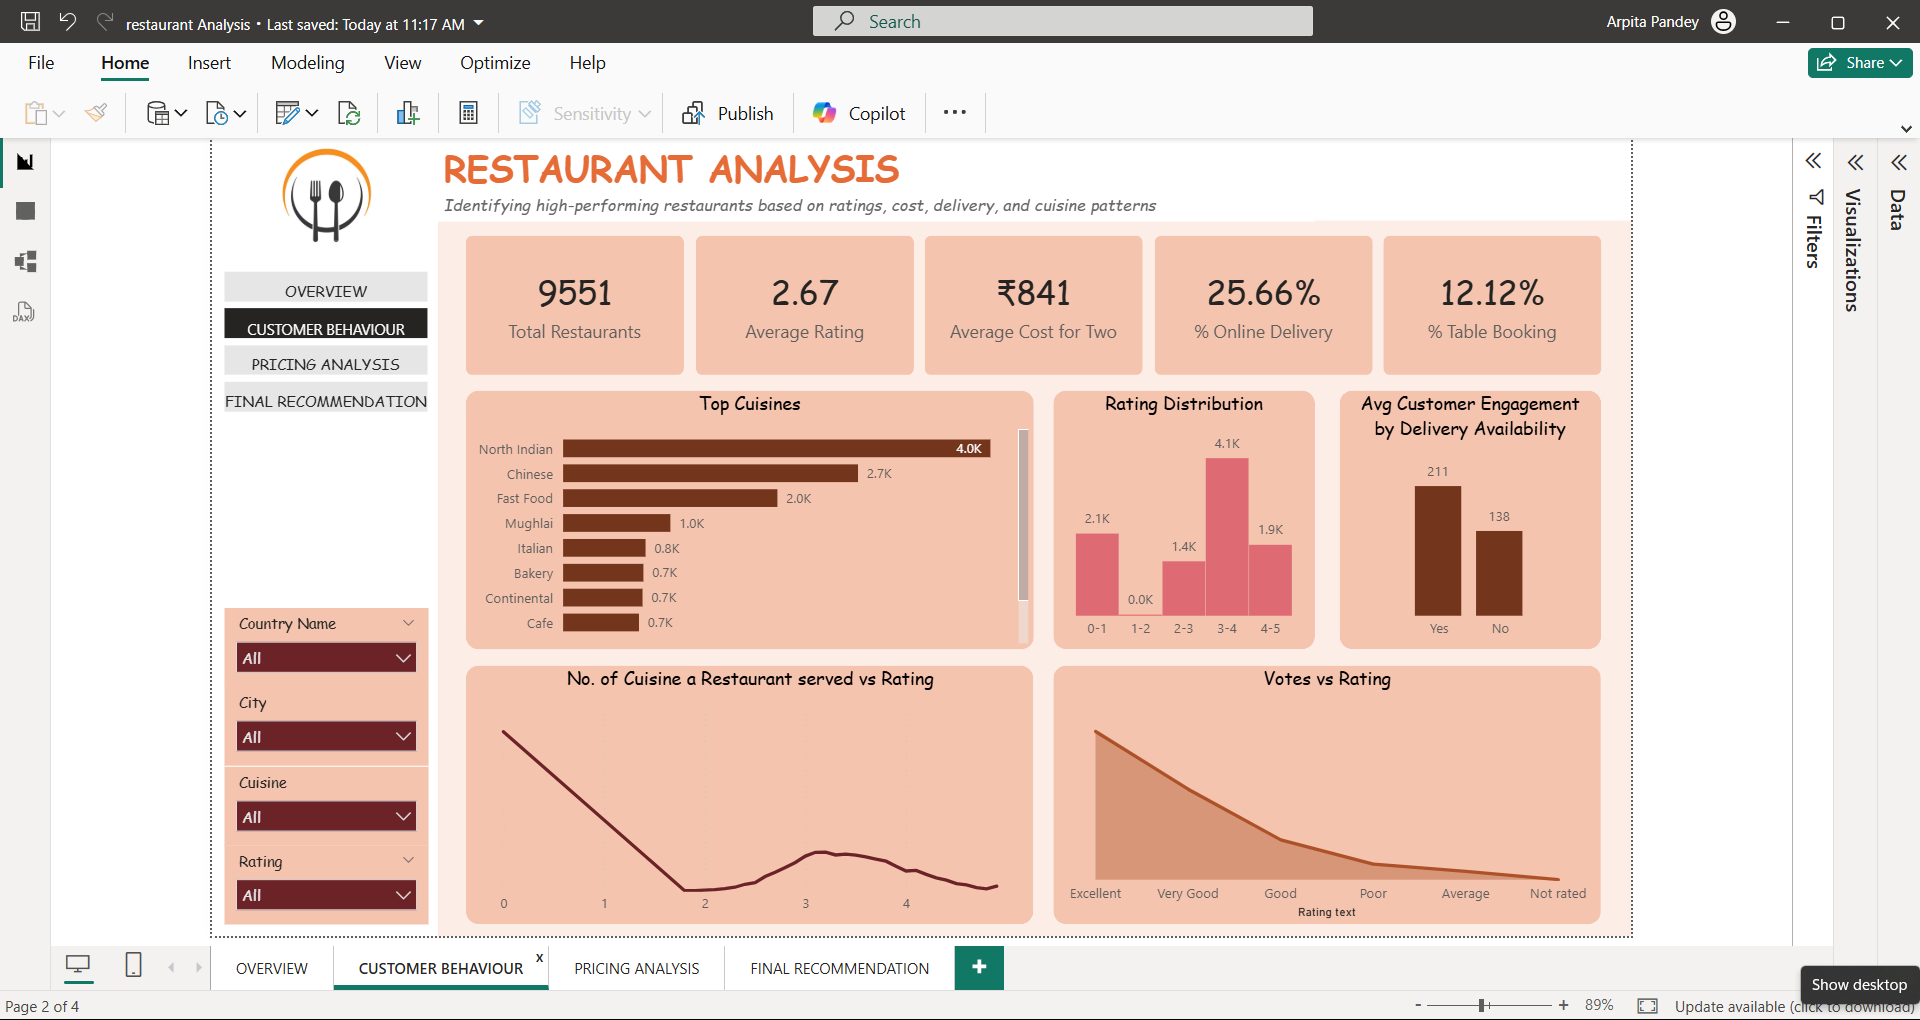

This screenshot's page, from the dashboard's own definition file:
{"tool":"powerbi","page":{"name":"CUSTOMER BEHAVIOUR","canvas":[1280,720],"ordinal":1},"visuals":[{"type":"shape","box":[0,0,204.2,720.2],"z":0},{"type":"shape","box":[0,0,1280.3,74.6],"z":1000},{"type":"image","box":[37,0,131,104],"z":2000},{"type":"textbox","box":[204,0,554,66],"z":3000},{"type":"textbox","box":[204,45,790,30],"z":4000},{"type":"shape","box":[228.7,227.4,512.4,233.6],"z":5000},{"type":"group","id":"g1","title":"Group 1","box":[228.7,87.9,196.9,126],"z":6000},{"type":"shape","box":[228.7,87.9,196.9,126],"z":7000,"group":"g1"},{"type":"group","id":"g2","title":"Group 1","box":[435.6,87.9,196.9,126],"z":7000},{"type":"shape","box":[435.6,87.9,196.9,126],"z":7000,"group":"g2"},{"type":"shape","box":[642.6,87.9,196.9,126],"z":7000,"group":"g3"},{"type":"shape","box":[849.6,87.9,196.9,126],"z":7000,"group":"g4"},{"type":"shape","box":[1056.5,87.9,196.9,126],"z":7000,"group":"g5"},{"type":"group","id":"g3","title":"Group 1","box":[642.6,87.9,196.9,126],"z":8000},{"type":"group","id":"g4","title":"Group 1","box":[849.6,87.9,196.9,126],"z":9000},{"type":"card","fields":{"Values":["restaurant_db.Total Restaurants"]},"box":[228.7,98.4,196.9,105.2],"z":9001,"group":"g1"},{"type":"card","fields":{"Values":["restaurant_db.Average Rating"]},"box":[435.6,98.4,196.9,105.2],"z":9001,"group":"g2"},{"type":"card","fields":{"Values":["restaurant_db.Average Cost for Two People"]},"box":[642.6,98.4,196.9,105.2],"z":9001,"group":"g3"},{"type":"card","fields":{"Values":["restaurant_db.% Online Delivery"]},"box":[849.6,98.4,196.9,105.2],"z":9001,"group":"g4"},{"type":"card","fields":{"Values":["restaurant_db.% Table Booking"]},"box":[1056.5,98.4,196.9,105.2],"z":9001,"group":"g5"},{"type":"group","id":"g5","title":"Group 1","box":[1056.5,87.9,196.9,126],"z":10000},{"type":"shape","box":[758.8,227.8,236,233.3],"z":11000},{"type":"clusteredBarChart","title":"Top Cuisines","fields":{"Category":["Cuisine_tbl.Cuisine"],"Y":["Cuisine_tbl.Restaurants per Cuisine"]},"box":[229.2,227.8,511.8,233.3],"z":12000},{"type":"clusteredColumnChart","title":"Rating Distribution","fields":{"Category":["restaurant_db.Rating Bucket"],"Y":["restaurant_db.Total Restaurants"]},"box":[758.8,227.8,236,233.3],"z":13000},{"type":"shape","box":[229.2,476.2,511.8,233.3],"z":14000},{"type":"lineChart","title":"No. of Cuisine a Restaurant served vs Rating","fields":{"Category":["restaurant_db.Aggregate rating"],"Y":["CountNonNull(restaurant_db.Cusinie Count per Restaurant)"]},"box":[248.4,476.2,474.8,233.3],"z":15000},{"type":"shape","box":[1016.8,227.8,236,233.3],"z":16000},{"type":"clusteredColumnChart","title":"Avg Customer Engagement by Delivery Availability","fields":{"Category":["restaurant_db.Has Online delivery"],"Y":["restaurant_db.Average Votes"]},"box":[1030.5,227.8,208.6,233.3],"z":17000},{"type":"shape","box":[758.8,476.2,494,233.3],"z":18000},{"type":"stackedAreaChart","title":"Votes vs Rating","fields":{"Category":["restaurant_db.Rating text"],"Y":["restaurant_db.Average Votes"]},"box":[758.8,476.2,494,233.3],"z":19000},{"type":"group","id":"g6","title":"Group 2","box":[11,424,183.9,285.4],"z":20000},{"type":"slicer","fields":{"Values":["restaurant_db.Country Name"]},"box":[11,424,183.9,71.4],"z":20000,"group":"g6"},{"type":"slicer","fields":{"Values":["restaurant_db.City"]},"box":[11,495.4,183.9,71.4],"z":21000,"group":"g6"},{"type":"slicer","fields":{"Values":["Cuisine_tbl.Cuisine"]},"box":[11,566.7,183.9,71.4],"z":22000,"group":"g6"},{"type":"slicer","fields":{"Values":["restaurant_db.Rating text"]},"box":[11,638.1,183.9,71.4],"z":23000,"group":"g6"},{"type":"pageNavigator","box":[11,120.8,183.9,127.6],"z":28001}]}

Visuals, with their boxes on the page's 1280x720 design canvas (x1, y1, x2, y2). These are canvas units, not pixel positions in the 1920x1020 screenshot, which may show the page scaled, cropped or inside an application window:
shape: left=0, top=0, right=204, bottom=720
shape: left=0, top=0, right=1280, bottom=75
image: left=37, top=0, right=168, bottom=104
textbox: left=204, top=0, right=758, bottom=66
textbox: left=204, top=45, right=994, bottom=75
shape: left=229, top=227, right=741, bottom=461
"Group 1" group: left=229, top=88, right=426, bottom=214
shape: left=229, top=88, right=426, bottom=214
"Group 1" group: left=436, top=88, right=632, bottom=214
shape: left=436, top=88, right=632, bottom=214
shape: left=643, top=88, right=840, bottom=214
shape: left=850, top=88, right=1046, bottom=214
shape: left=1056, top=88, right=1253, bottom=214
"Group 1" group: left=643, top=88, right=840, bottom=214
"Group 1" group: left=850, top=88, right=1046, bottom=214
card - restaurant_db.Total Restaurants: left=229, top=98, right=426, bottom=204
card - restaurant_db.Average Rating: left=436, top=98, right=632, bottom=204
card - restaurant_db.Average Cost for Two People: left=643, top=98, right=840, bottom=204
card - restaurant_db.% Online Delivery: left=850, top=98, right=1046, bottom=204
card - restaurant_db.% Table Booking: left=1056, top=98, right=1253, bottom=204
"Group 1" group: left=1056, top=88, right=1253, bottom=214
shape: left=759, top=228, right=995, bottom=461
"Top Cuisines" clusteredBarChart: left=229, top=228, right=741, bottom=461
"Rating Distribution" clusteredColumnChart: left=759, top=228, right=995, bottom=461
shape: left=229, top=476, right=741, bottom=710
"No. of Cuisine a Restaurant served vs Rating" lineChart: left=248, top=476, right=723, bottom=710
shape: left=1017, top=228, right=1253, bottom=461
"Avg Customer Engagement by Delivery Availability" clusteredColumnChart: left=1030, top=228, right=1239, bottom=461
shape: left=759, top=476, right=1253, bottom=710
"Votes vs Rating" stackedAreaChart: left=759, top=476, right=1253, bottom=710
"Group 2" group: left=11, top=424, right=195, bottom=709
slicer - restaurant_db.Country Name: left=11, top=424, right=195, bottom=495
slicer - restaurant_db.City: left=11, top=495, right=195, bottom=567
slicer - Cuisine_tbl.Cuisine: left=11, top=567, right=195, bottom=638
slicer - restaurant_db.Rating text: left=11, top=638, right=195, bottom=710
pageNavigator: left=11, top=121, right=195, bottom=248
